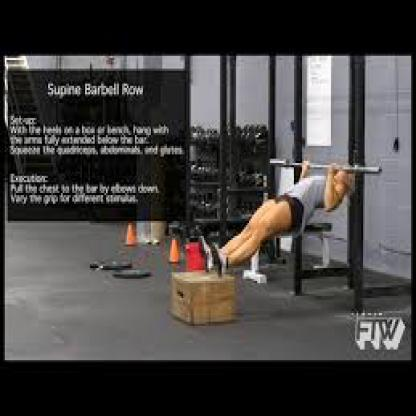Barbell: (376, 162, 387, 179)
